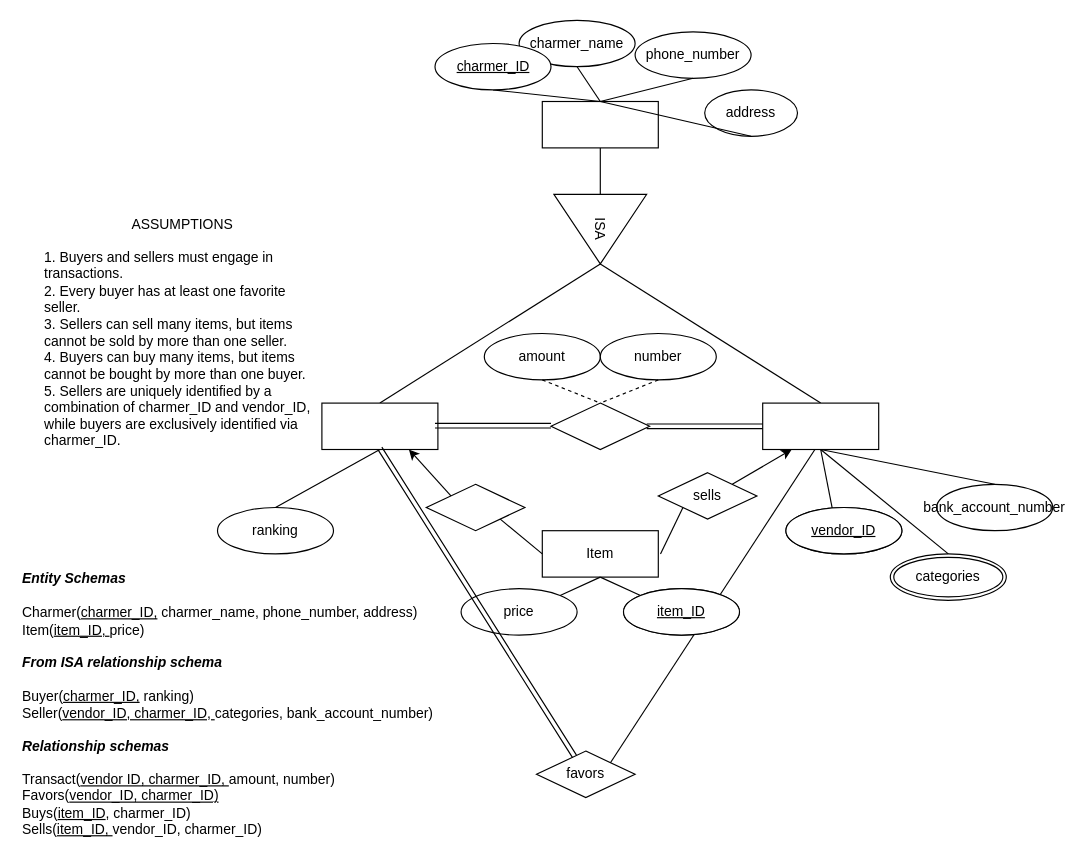
The diagram is 1085 pixels wide and 858 high, and some of its shapes have lost their labels. Each missing label, with the centre of its shape:
Buyer: the point at 379,425
buys: the point at 475,507
Charmer: the point at 599,124
Seller: the point at 820,425
transact: the point at 600,425
